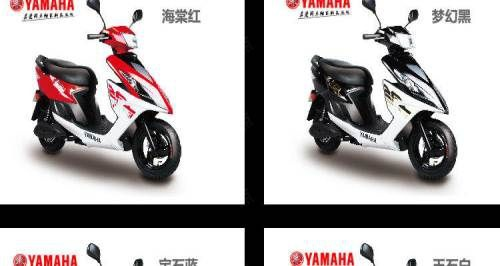non-vehicle: (22, 4, 185, 182), (300, 5, 460, 185)
